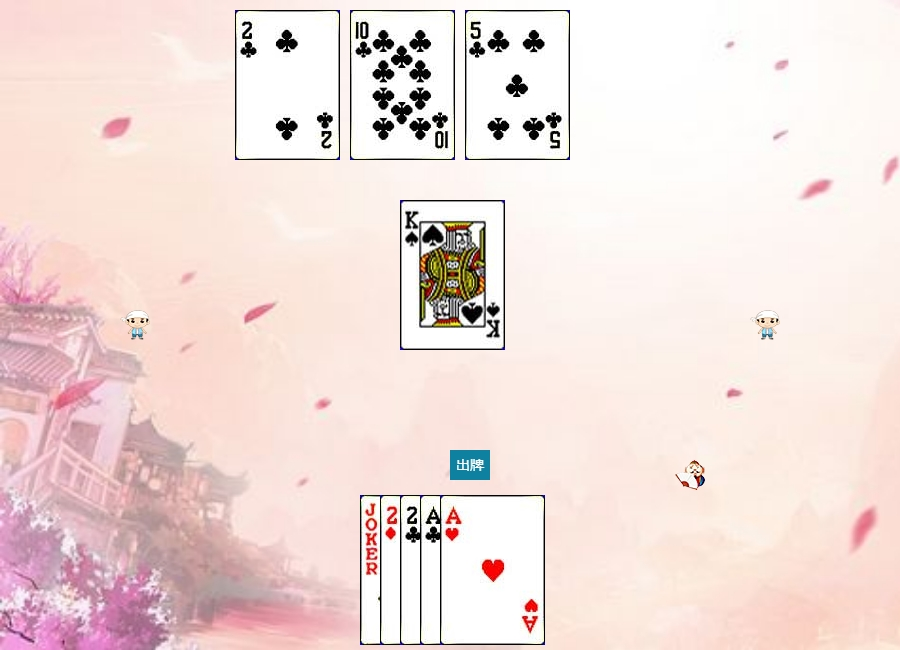10~2: (350, 10, 455, 160)
13~4: (400, 200, 505, 350)
14~2: (420, 495, 525, 645)
14~3: (440, 495, 545, 645)
15~1: (380, 495, 485, 645)
15~2: (235, 10, 340, 160), (400, 495, 505, 645)
18~4: (360, 495, 465, 645)
5~2: (465, 10, 570, 160)
